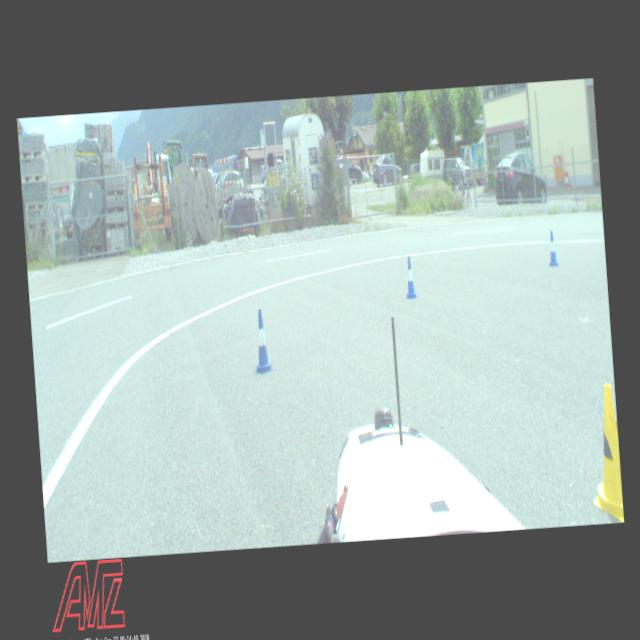blue_cone: (252, 310, 274, 372), (402, 255, 418, 298), (546, 230, 558, 266)
yellow_cone: (586, 383, 624, 524)
